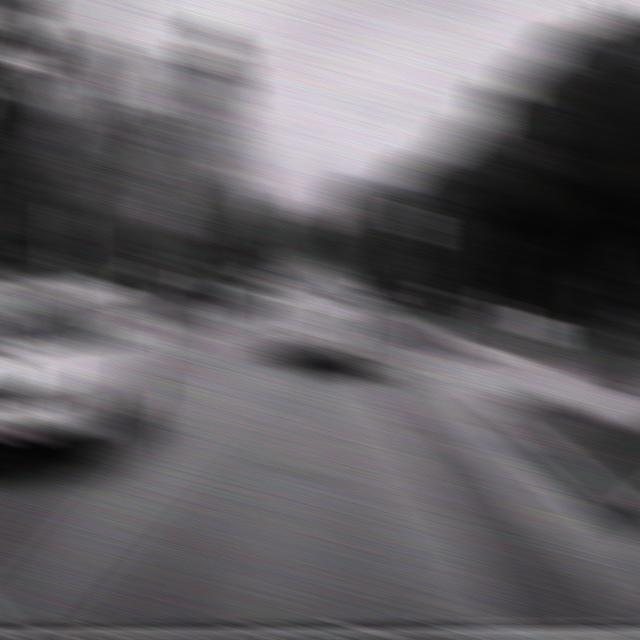speedLimit30: (398, 203, 434, 243)
